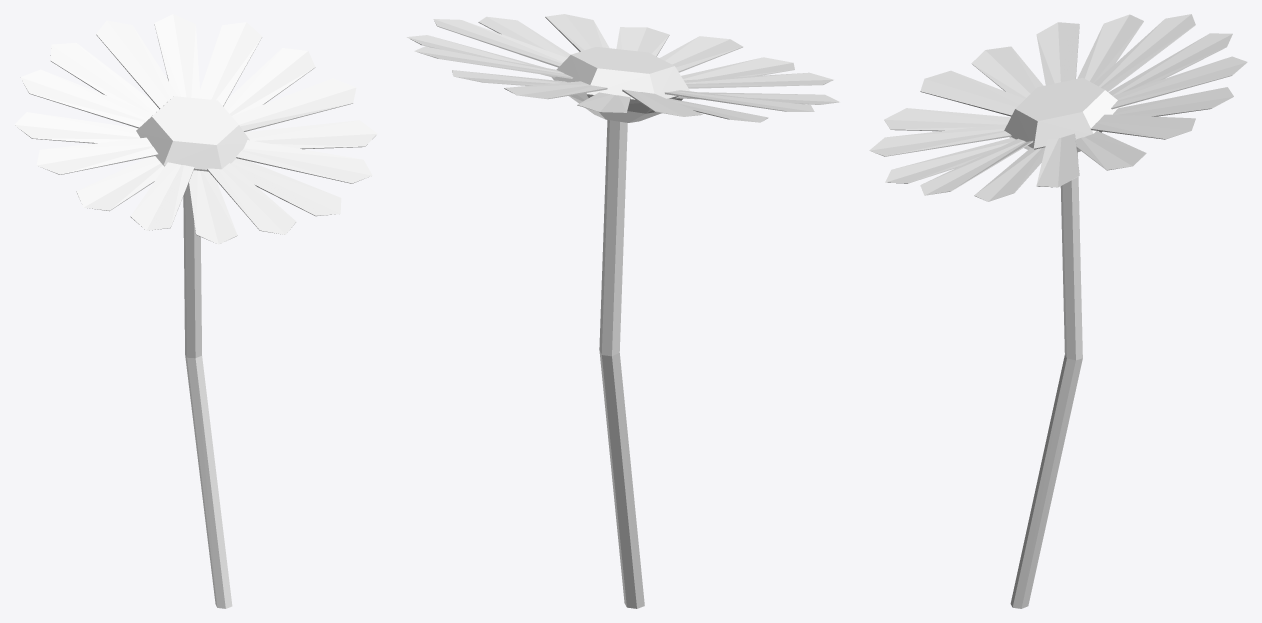
Rendered from Env_Daisy_High_Detail_01.glb.
3 renders of one model, left to right at view 1: azimuth 30°, elevation 25°; view 2: azimuth 150°, elevation 25°; view 3: azimuth 270°, elevation 25°, orthographic. The views are drawn at different scales.
Visible parts, largest first — view 1: Env_Daisy_High_Detail_01; view 2: Env_Daisy_High_Detail_01; view 3: Env_Daisy_High_Detail_01.
Boxes of the visible parts, x1,y1,x2,y2 form: Env_Daisy_High_Detail_01: (14,14,377,608); Env_Daisy_High_Detail_01: (406,14,839,608); Env_Daisy_High_Detail_01: (869,14,1247,608).
Bounding box in the file's own units: 0.1238 × 0.1879 × 0.1199.
1 material, 1 textured.
